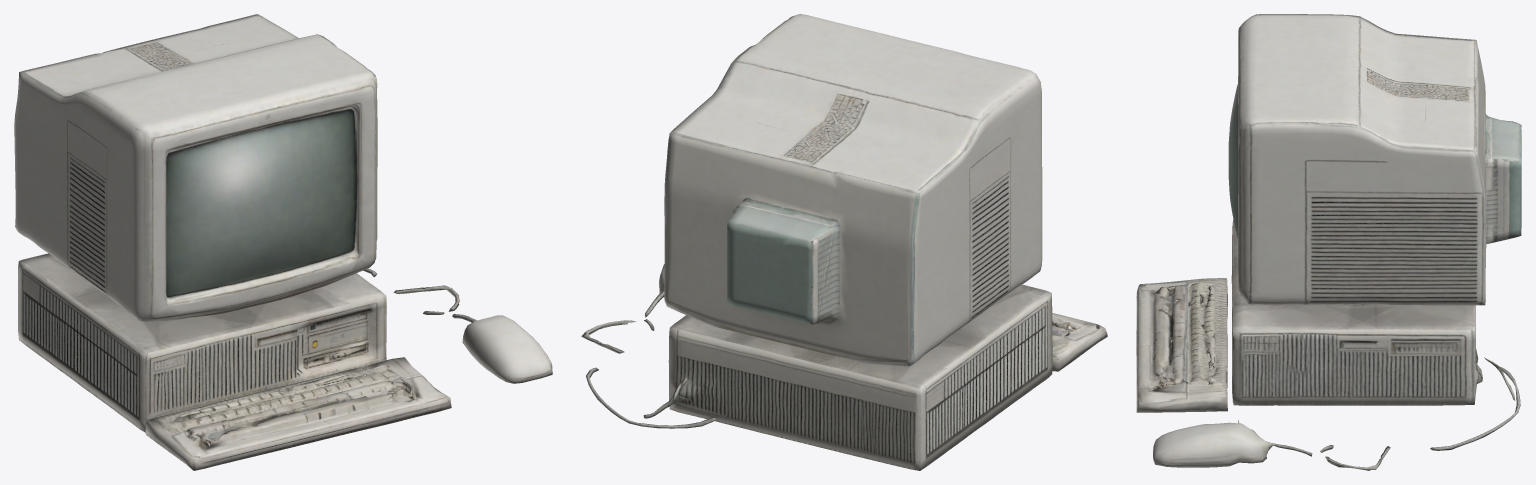
Rendered from Meshy_Model_20250604_205644.glb.
The picture shows the model from 3 angles, left to right: view 1: azimuth 30°, elevation 25°; view 2: azimuth 150°, elevation 25°; view 3: azimuth 270°, elevation 25°; orthographic projection. The views are drawn at different scales.
Bounding box in the file's own units: 2 × 1.71 × 1.83.
Materials: 1 (1 with a texture image).
